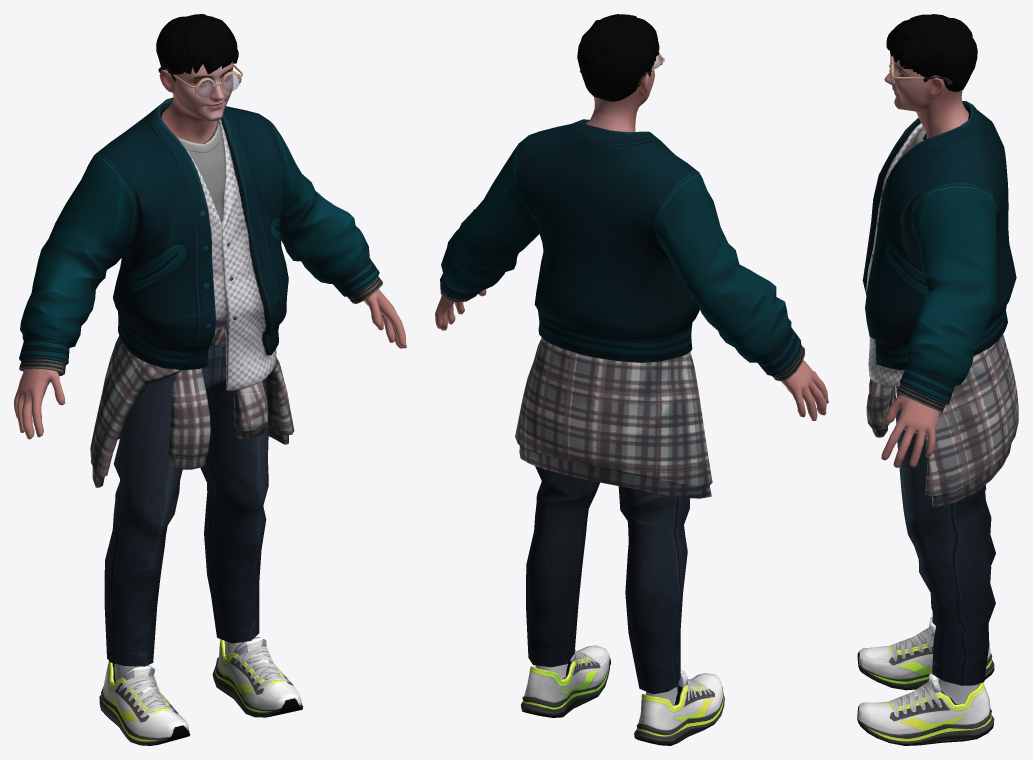
The picture shows the model from 3 angles, left to right: view 1: azimuth 30°, elevation 25°; view 2: azimuth 150°, elevation 25°; view 3: azimuth 270°, elevation 25°; orthographic projection.
Visible parts, largest first — view 1: node_4010ba9e_7a90_4fde_bc43_25ff9f45e64d_mesh0, node_2ae248fe_39d2_48bc_9310_5b700441f68a_mesh0, node_dc5bf8fe_4324_49cf_a359_7878b038164c_mesh0, node_d4148f1b_a4f7_4c69_b74d_3117ac79cb10_mesh0, node_91f10e4e_0c63_45d3_ac47_0a1b4f99c0d9_mesh0, node_94428b08_65b8_47a6_9e5f_a9ea4c55347b_mesh0, node_c920552b_6854_48ba_bf28_70b666e1b1a4_mesh0; view 2: node_4010ba9e_7a90_4fde_bc43_25ff9f45e64d_mesh0, node_2ae248fe_39d2_48bc_9310_5b700441f68a_mesh0, node_dc5bf8fe_4324_49cf_a359_7878b038164c_mesh0, node_d4148f1b_a4f7_4c69_b74d_3117ac79cb10_mesh0, node_94428b08_65b8_47a6_9e5f_a9ea4c55347b_mesh0, node_91f10e4e_0c63_45d3_ac47_0a1b4f99c0d9_mesh0; view 3: node_4010ba9e_7a90_4fde_bc43_25ff9f45e64d_mesh0, node_2ae248fe_39d2_48bc_9310_5b700441f68a_mesh0, node_dc5bf8fe_4324_49cf_a359_7878b038164c_mesh0, node_d4148f1b_a4f7_4c69_b74d_3117ac79cb10_mesh0, node_91f10e4e_0c63_45d3_ac47_0a1b4f99c0d9_mesh0, node_94428b08_65b8_47a6_9e5f_a9ea4c55347b_mesh0.
Boxes of the visible parts, left/top/right/bottom form: node_4010ba9e_7a90_4fde_bc43_25ff9f45e64d_mesh0: left=19, top=97, right=382, bottom=487; node_2ae248fe_39d2_48bc_9310_5b700441f68a_mesh0: left=104, top=344, right=268, bottom=681; node_dc5bf8fe_4324_49cf_a359_7878b038164c_mesh0: left=99, top=636, right=303, bottom=745; node_d4148f1b_a4f7_4c69_b74d_3117ac79cb10_mesh0: left=156, top=14, right=238, bottom=81; node_91f10e4e_0c63_45d3_ac47_0a1b4f99c0d9_mesh0: left=159, top=61, right=233, bottom=143; node_94428b08_65b8_47a6_9e5f_a9ea4c55347b_mesh0: left=14, top=289, right=406, bottom=439; node_c920552b_6854_48ba_bf28_70b666e1b1a4_mesh0: left=158, top=64, right=242, bottom=97; node_4010ba9e_7a90_4fde_bc43_25ff9f45e64d_mesh0: left=440, top=119, right=804, bottom=498; node_2ae248fe_39d2_48bc_9310_5b700441f68a_mesh0: left=526, top=466, right=689, bottom=705; node_dc5bf8fe_4324_49cf_a359_7878b038164c_mesh0: left=521, top=645, right=724, bottom=745; node_d4148f1b_a4f7_4c69_b74d_3117ac79cb10_mesh0: left=577, top=14, right=659, bottom=101; node_94428b08_65b8_47a6_9e5f_a9ea4c55347b_mesh0: left=435, top=289, right=828, bottom=420; node_91f10e4e_0c63_45d3_ac47_0a1b4f99c0d9_mesh0: left=585, top=65, right=654, bottom=131; node_4010ba9e_7a90_4fde_bc43_25ff9f45e64d_mesh0: left=862, top=101, right=1018, bottom=507; node_2ae248fe_39d2_48bc_9310_5b700441f68a_mesh0: left=896, top=386, right=995, bottom=704; node_dc5bf8fe_4324_49cf_a359_7878b038164c_mesh0: left=857, top=617, right=994, bottom=745; node_d4148f1b_a4f7_4c69_b74d_3117ac79cb10_mesh0: left=886, top=14, right=977, bottom=91; node_91f10e4e_0c63_45d3_ac47_0a1b4f99c0d9_mesh0: left=884, top=56, right=968, bottom=138; node_94428b08_65b8_47a6_9e5f_a9ea4c55347b_mesh0: left=881, top=394, right=939, bottom=467.
Size of the model in its own units: 1.06 by 1.85 by 0.3937.
9 materials, 9 textured.
